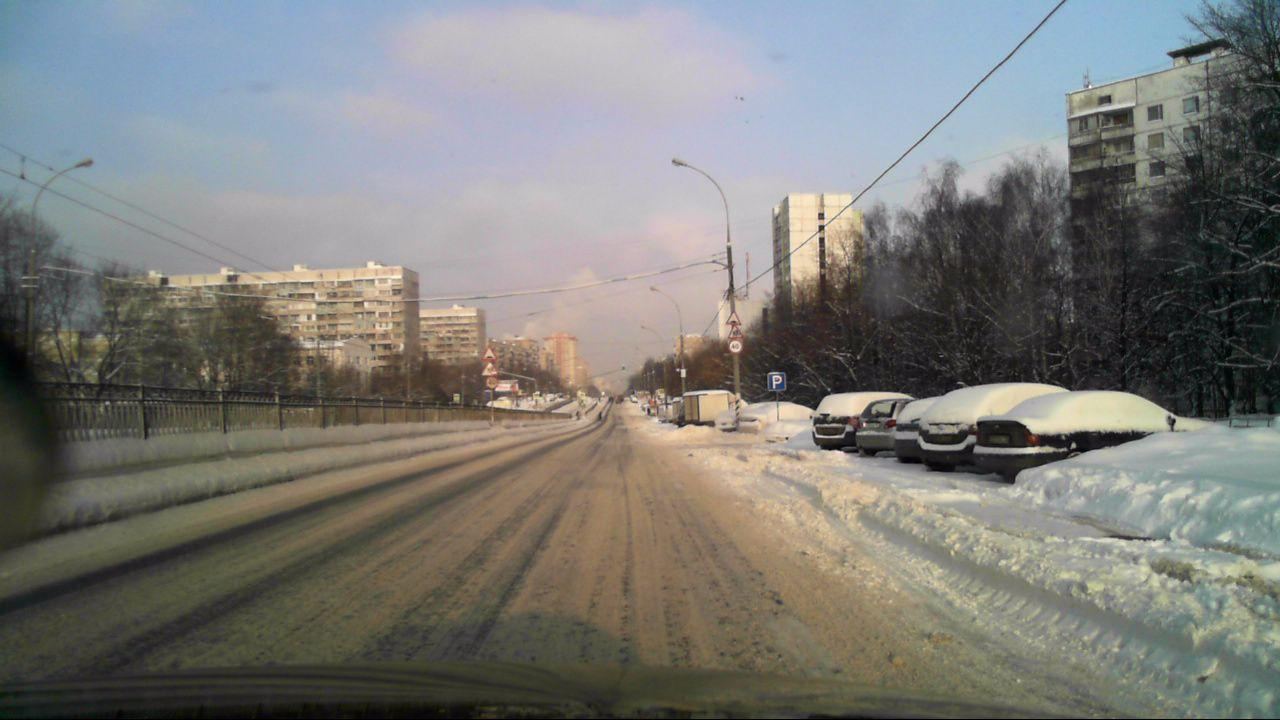1_17: (725, 310, 743, 326), (481, 344, 498, 360)
1_23: (726, 326, 744, 339), (483, 362, 498, 377)
3_24: (729, 340, 744, 353), (486, 377, 499, 388)
6_4: (767, 372, 786, 392)
